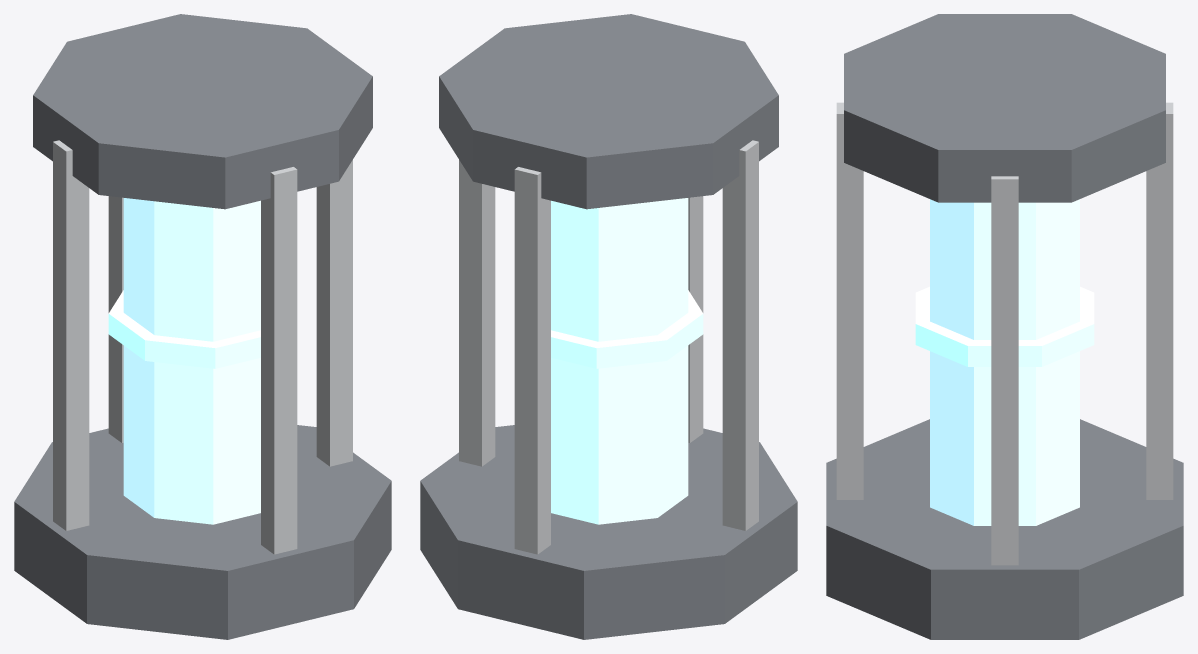
Rendered from reactor-core.glb.
3 views of the same model, side by side, from view 1: azimuth 30°, elevation 25°; view 2: azimuth 150°, elevation 25°; view 3: azimuth 270°, elevation 25° (orthographic).
Parts seen in each view (by area): view 1: frame, core; view 2: frame, core; view 3: frame, core.
Part boxes in pixels (box(x1,y1,x2,y2)): frame: box(14, 14, 391, 639); core: box(108, 198, 260, 524); frame: box(420, 14, 797, 639); core: box(551, 198, 703, 524); frame: box(826, 14, 1183, 639); core: box(915, 199, 1094, 525).
Bounding box in the file's own units: 1.85 × 2.75 × 1.85.
